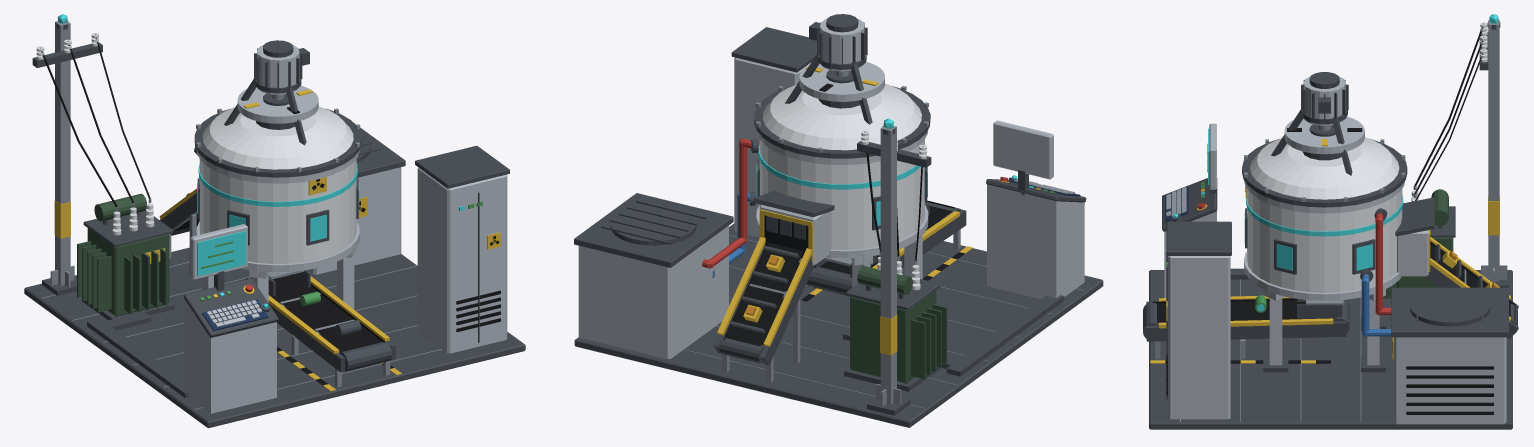
The model's file is centrifugeuse_t4.glb.
The picture shows the model from 3 angles, left to right: view 1: azimuth 30°, elevation 25°; view 2: azimuth 150°, elevation 25°; view 3: azimuth 270°, elevation 25°; orthographic projection. The views are drawn at different scales.
Parts seen in each view (by area): view 1: dalle.003, pieces_acier_sombre.003, carter.003, armoire.003, pupitre.003, pieces_noir.003, pieces_acier.003, pieces_vert_fonce.003, pieces_gris_clair.003, groupe_froid.003, pieces_jaune.003, transformateur.003 (+9 smaller); view 2: dalle.003, pieces_acier_sombre.003, carter.003, groupe_froid.003, pupitre.003, pieces_acier.003, pieces_gris_clair.003, pieces_noir.003, armoire.003, transformateur.003, pieces_jaune.003, pieces_vert_fonce.003 (+10 smaller); view 3: dalle.003, pieces_acier_sombre.003, carter.003, armoire.003, groupe_froid.003, pieces_noir.003, pieces_acier.003, pieces_gris_clair.003, ventilateur_cadre.003, pieces_jaune.003, bride_couvercle.003, rotor_gris_clair.003 (+10 smaller).
Boxes of the visible parts, x1,y1,x2,y2 form: dalle.003: (24, 247, 525, 428); pieces_acier_sombre.003: (32, 21, 509, 397); carter.003: (199, 106, 356, 272); armoire.003: (417, 167, 507, 353); pupitre.003: (184, 299, 276, 413); pieces_noir.003: (40, 34, 500, 385); pieces_acier.003: (41, 21, 508, 409); pieces_vert_fonce.003: (77, 193, 167, 314); pieces_gris_clair.003: (190, 45, 356, 327); groupe_froid.003: (308, 167, 401, 274); pieces_jaune.003: (54, 177, 500, 391); transformateur.003: (87, 228, 169, 316); dalle.003: (574, 223, 1103, 427); pieces_acier_sombre.003: (574, 14, 1086, 415); carter.003: (759, 83, 924, 258); groupe_froid.003: (578, 225, 728, 358); pupitre.003: (987, 184, 1084, 299); pieces_acier.003: (683, 86, 1084, 408); pieces_gris_clair.003: (820, 19, 1074, 287); pieces_noir.003: (723, 131, 964, 346); armoire.003: (734, 57, 811, 237); transformateur.003: (850, 290, 936, 383); pieces_jaune.003: (717, 179, 1040, 355); pieces_vert_fonce.003: (857, 266, 947, 379); dalle.003: (1149, 270, 1512, 429); pieces_acier_sombre.003: (1143, 22, 1518, 400); carter.003: (1247, 137, 1402, 301); armoire.003: (1168, 256, 1230, 419); groupe_froid.003: (1393, 337, 1506, 424); pieces_noir.003: (1152, 23, 1515, 414); pieces_acier.003: (1155, 20, 1507, 422); pieces_gris_clair.003: (1166, 76, 1385, 365); ventilateur_cadre.003: (1410, 288, 1490, 326); pieces_jaune.003: (1150, 187, 1510, 363); bride_couvercle.003: (1242, 139, 1407, 207); rotor_gris_clair.003: (1284, 116, 1364, 154).
Bounding box in the file's own units: 2 × 1.62 × 2.
